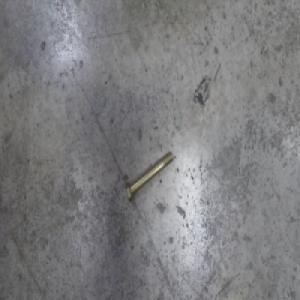Bolt: (124, 147, 174, 204)
